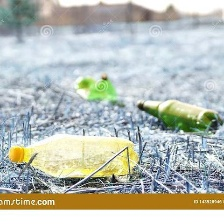bottle: (4, 131, 138, 182), (132, 95, 222, 139), (69, 71, 116, 105)
